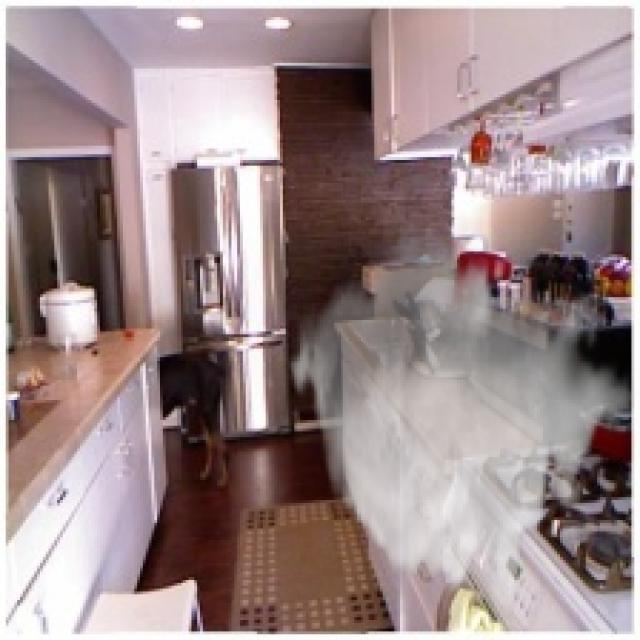Smoke: (286, 217, 634, 623)
